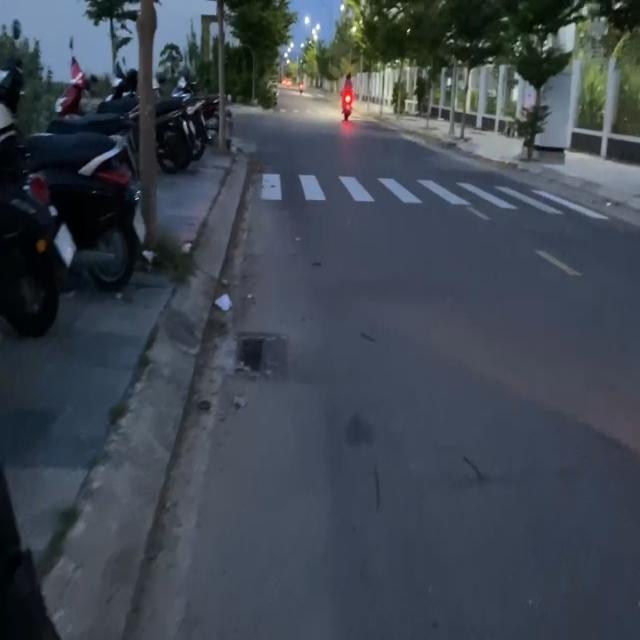walk-crossing: (260, 155, 605, 221)
